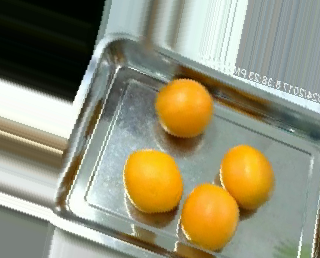Orange: (180, 182, 241, 251), (122, 148, 183, 212), (154, 77, 213, 140), (220, 144, 275, 210)
